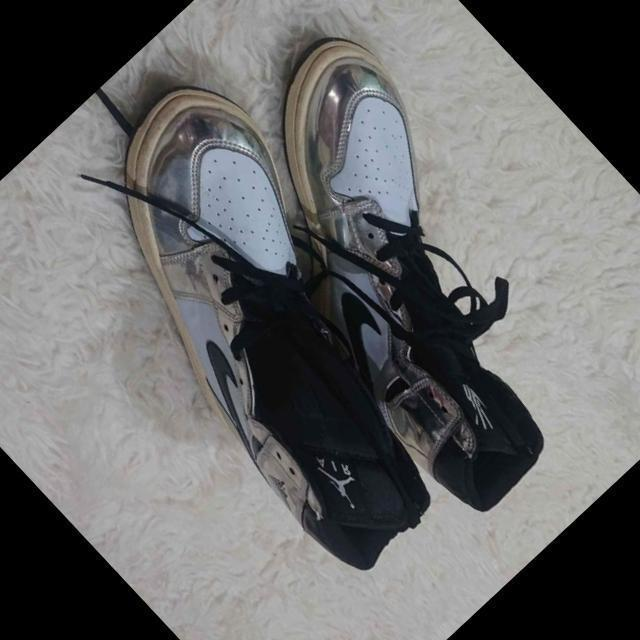nike fake jordan 1: (19, 59, 534, 586), (159, 14, 640, 527)
